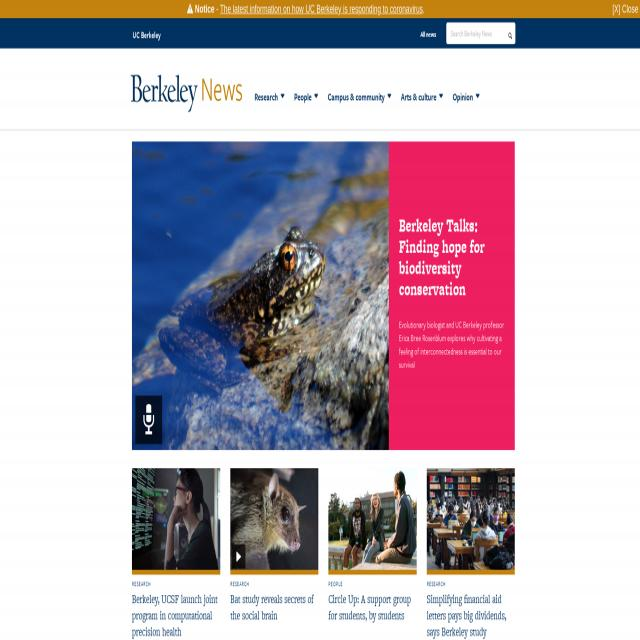button: (132, 141, 389, 450), (328, 468, 417, 574), (132, 468, 220, 574), (230, 468, 318, 574), (427, 468, 515, 574), (122, 58, 247, 120), (323, 80, 395, 118), (396, 79, 447, 119), (448, 78, 487, 118), (250, 82, 289, 116), (290, 80, 323, 117), (129, 18, 165, 51), (505, 23, 515, 43)
field: (446, 23, 516, 44)
